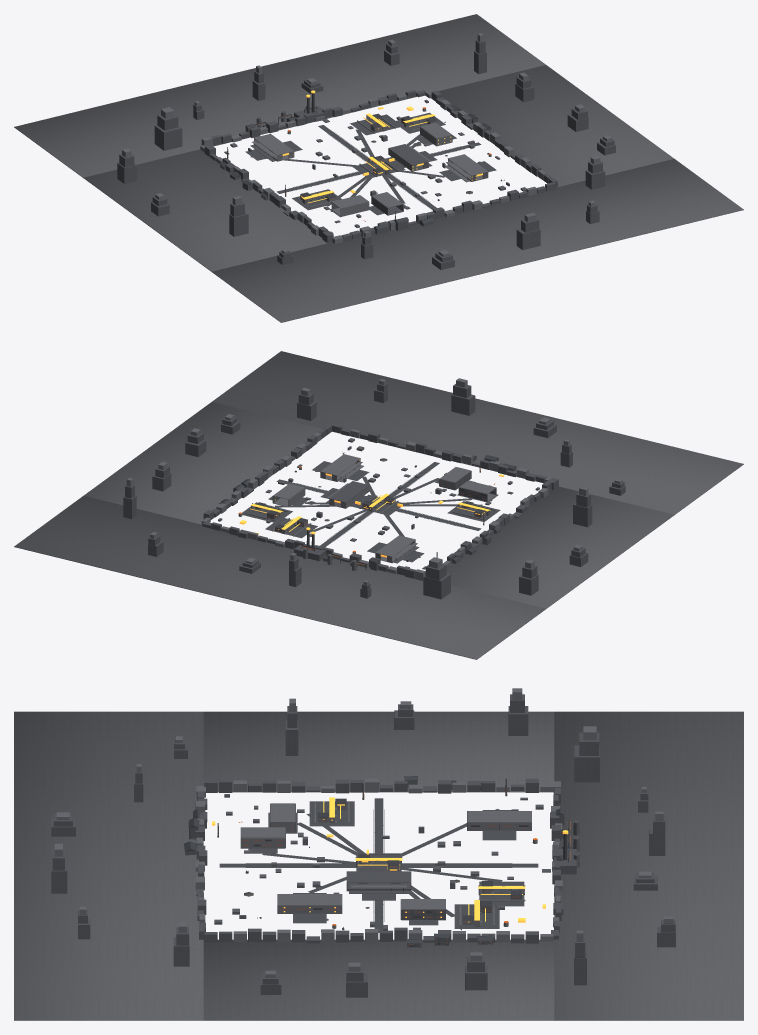
The model's file is koushou-lod1.glb.
3 renders of one model, top to bottom at view 1: azimuth 30°, elevation 25°; view 2: azimuth 150°, elevation 25°; view 3: azimuth 270°, elevation 25°, orthographic. The views are drawn at different scales.
Visible parts, largest first — view 1: HB_koushou_LOD1_terrain, HB_koushou_LOD1_wall_alt, HB_koushou_LOD1_wall, HB_koushou_LOD1_road, HB_koushou_LOD1_trim, HB_koushou_LOD1_obstacle, HB_koushou_LOD1_emissive; view 2: HB_koushou_LOD1_terrain, HB_koushou_LOD1_wall_alt, HB_koushou_LOD1_wall, HB_koushou_LOD1_road, HB_koushou_LOD1_trim, HB_koushou_LOD1_obstacle, HB_koushou_LOD1_emissive; view 3: HB_koushou_LOD1_terrain, HB_koushou_LOD1_wall_alt, HB_koushou_LOD1_wall, HB_koushou_LOD1_road, HB_koushou_LOD1_trim, HB_koushou_LOD1_obstacle, HB_koushou_LOD1_emissive.
Part boxes in pixels (bbox=[...]): HB_koushou_LOD1_terrain: bbox=[14, 14, 743, 322]; HB_koushou_LOD1_wall_alt: bbox=[117, 40, 615, 269]; HB_koushou_LOD1_wall: bbox=[122, 33, 612, 256]; HB_koushou_LOD1_road: bbox=[245, 112, 496, 217]; HB_koushou_LOD1_trim: bbox=[219, 93, 504, 229]; HB_koushou_LOD1_obstacle: bbox=[224, 99, 526, 233]; HB_koushou_LOD1_emissive: bbox=[282, 90, 482, 203]; HB_koushou_LOD1_terrain: bbox=[14, 351, 743, 659]; HB_koushou_LOD1_wall_alt: bbox=[123, 383, 625, 599]; HB_koushou_LOD1_wall: bbox=[126, 378, 622, 584]; HB_koushou_LOD1_road: bbox=[242, 461, 500, 562]; HB_koushou_LOD1_trim: bbox=[219, 452, 516, 569]; HB_koushou_LOD1_obstacle: bbox=[218, 438, 539, 569]; HB_koushou_LOD1_emissive: bbox=[239, 459, 504, 557]; HB_koushou_LOD1_terrain: bbox=[14, 711, 743, 1020]; HB_koushou_LOD1_wall_alt: bbox=[51, 694, 675, 997]; HB_koushou_LOD1_wall: bbox=[54, 688, 673, 977]; HB_koushou_LOD1_road: bbox=[219, 798, 538, 932]; HB_koushou_LOD1_trim: bbox=[184, 776, 573, 946]; HB_koushou_LOD1_obstacle: bbox=[214, 794, 567, 931]; HB_koushou_LOD1_emissive: bbox=[212, 797, 568, 922].
Size of the model in its own units: 654 by 51.1 by 654.
Materials: 10 (8 with a texture image).
